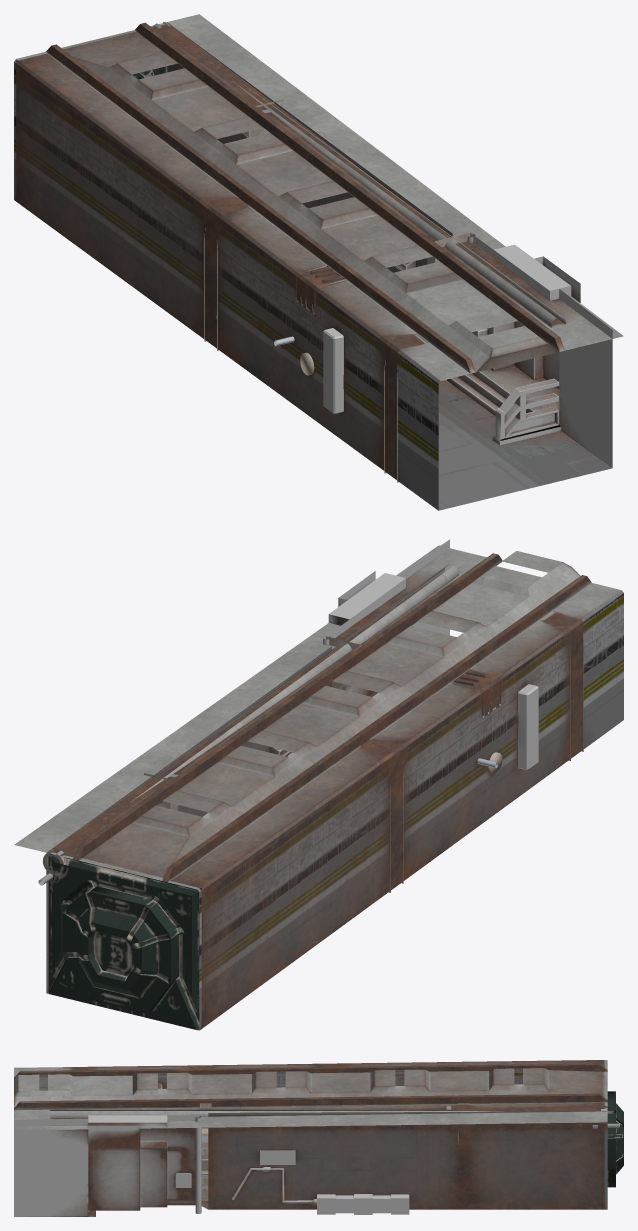
Rendered from Environment9.glb.
The picture shows the model from 3 angles, top to bottom: view 1: azimuth 30°, elevation 25°; view 2: azimuth 150°, elevation 25°; view 3: azimuth 270°, elevation 25°; orthographic projection. The views are drawn at different scales.
Parts seen in each view (by area): view 1: Cube.012_Baked, Cube.001_Baked, Cube.006_Baked, Cube.008_Baked; view 2: Cube.012_Baked, Cube.001_Baked, Cube.006_Baked, Cube.008_Baked; view 3: Cube.012_Baked, Cube.001_Baked, Cube.005_Baked, Cube.002_Baked, NurbsPath_Baked, Cube.004_Baked, Vert_Baked, Cube.003_Baked.
Part boxes in pixels (bbox=[...]): Cube.012_Baked: bbox=[14, 14, 623, 510]; Cube.001_Baked: bbox=[447, 233, 612, 467]; Cube.006_Baked: bbox=[323, 328, 343, 414]; Cube.008_Baked: bbox=[204, 99, 428, 482]; Cube.012_Baked: bbox=[14, 545, 623, 1030]; Cube.001_Baked: bbox=[327, 539, 449, 696]; Cube.006_Baked: bbox=[517, 684, 538, 770]; Cube.008_Baked: bbox=[144, 611, 583, 892]; Cube.012_Baked: bbox=[14, 1060, 623, 1216]; Cube.001_Baked: bbox=[14, 1115, 199, 1216]; Cube.005_Baked: bbox=[317, 1194, 409, 1214]; Cube.002_Baked: bbox=[200, 1103, 211, 1200]; NurbsPath_Baked: bbox=[195, 1116, 201, 1213]; Cube.004_Baked: bbox=[260, 1150, 295, 1164]; Vert_Baked: bbox=[232, 1167, 316, 1204]; Cube.003_Baked: bbox=[175, 1173, 191, 1187].
Bounding box in the file's own units: 21.51 × 15.24 × 76.23.
Materials: 1 (1 with a texture image).
